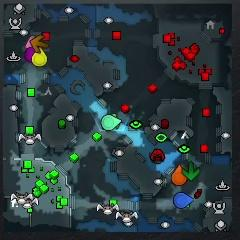p1: (172, 191, 194, 210)
p2: (100, 114, 124, 129)
p3: (24, 47, 36, 64)
p4: (32, 47, 48, 68)
p5: (171, 164, 187, 186)
x1: (24, 36, 35, 49)
x4: (181, 162, 201, 182)
x5: (29, 34, 49, 55)
